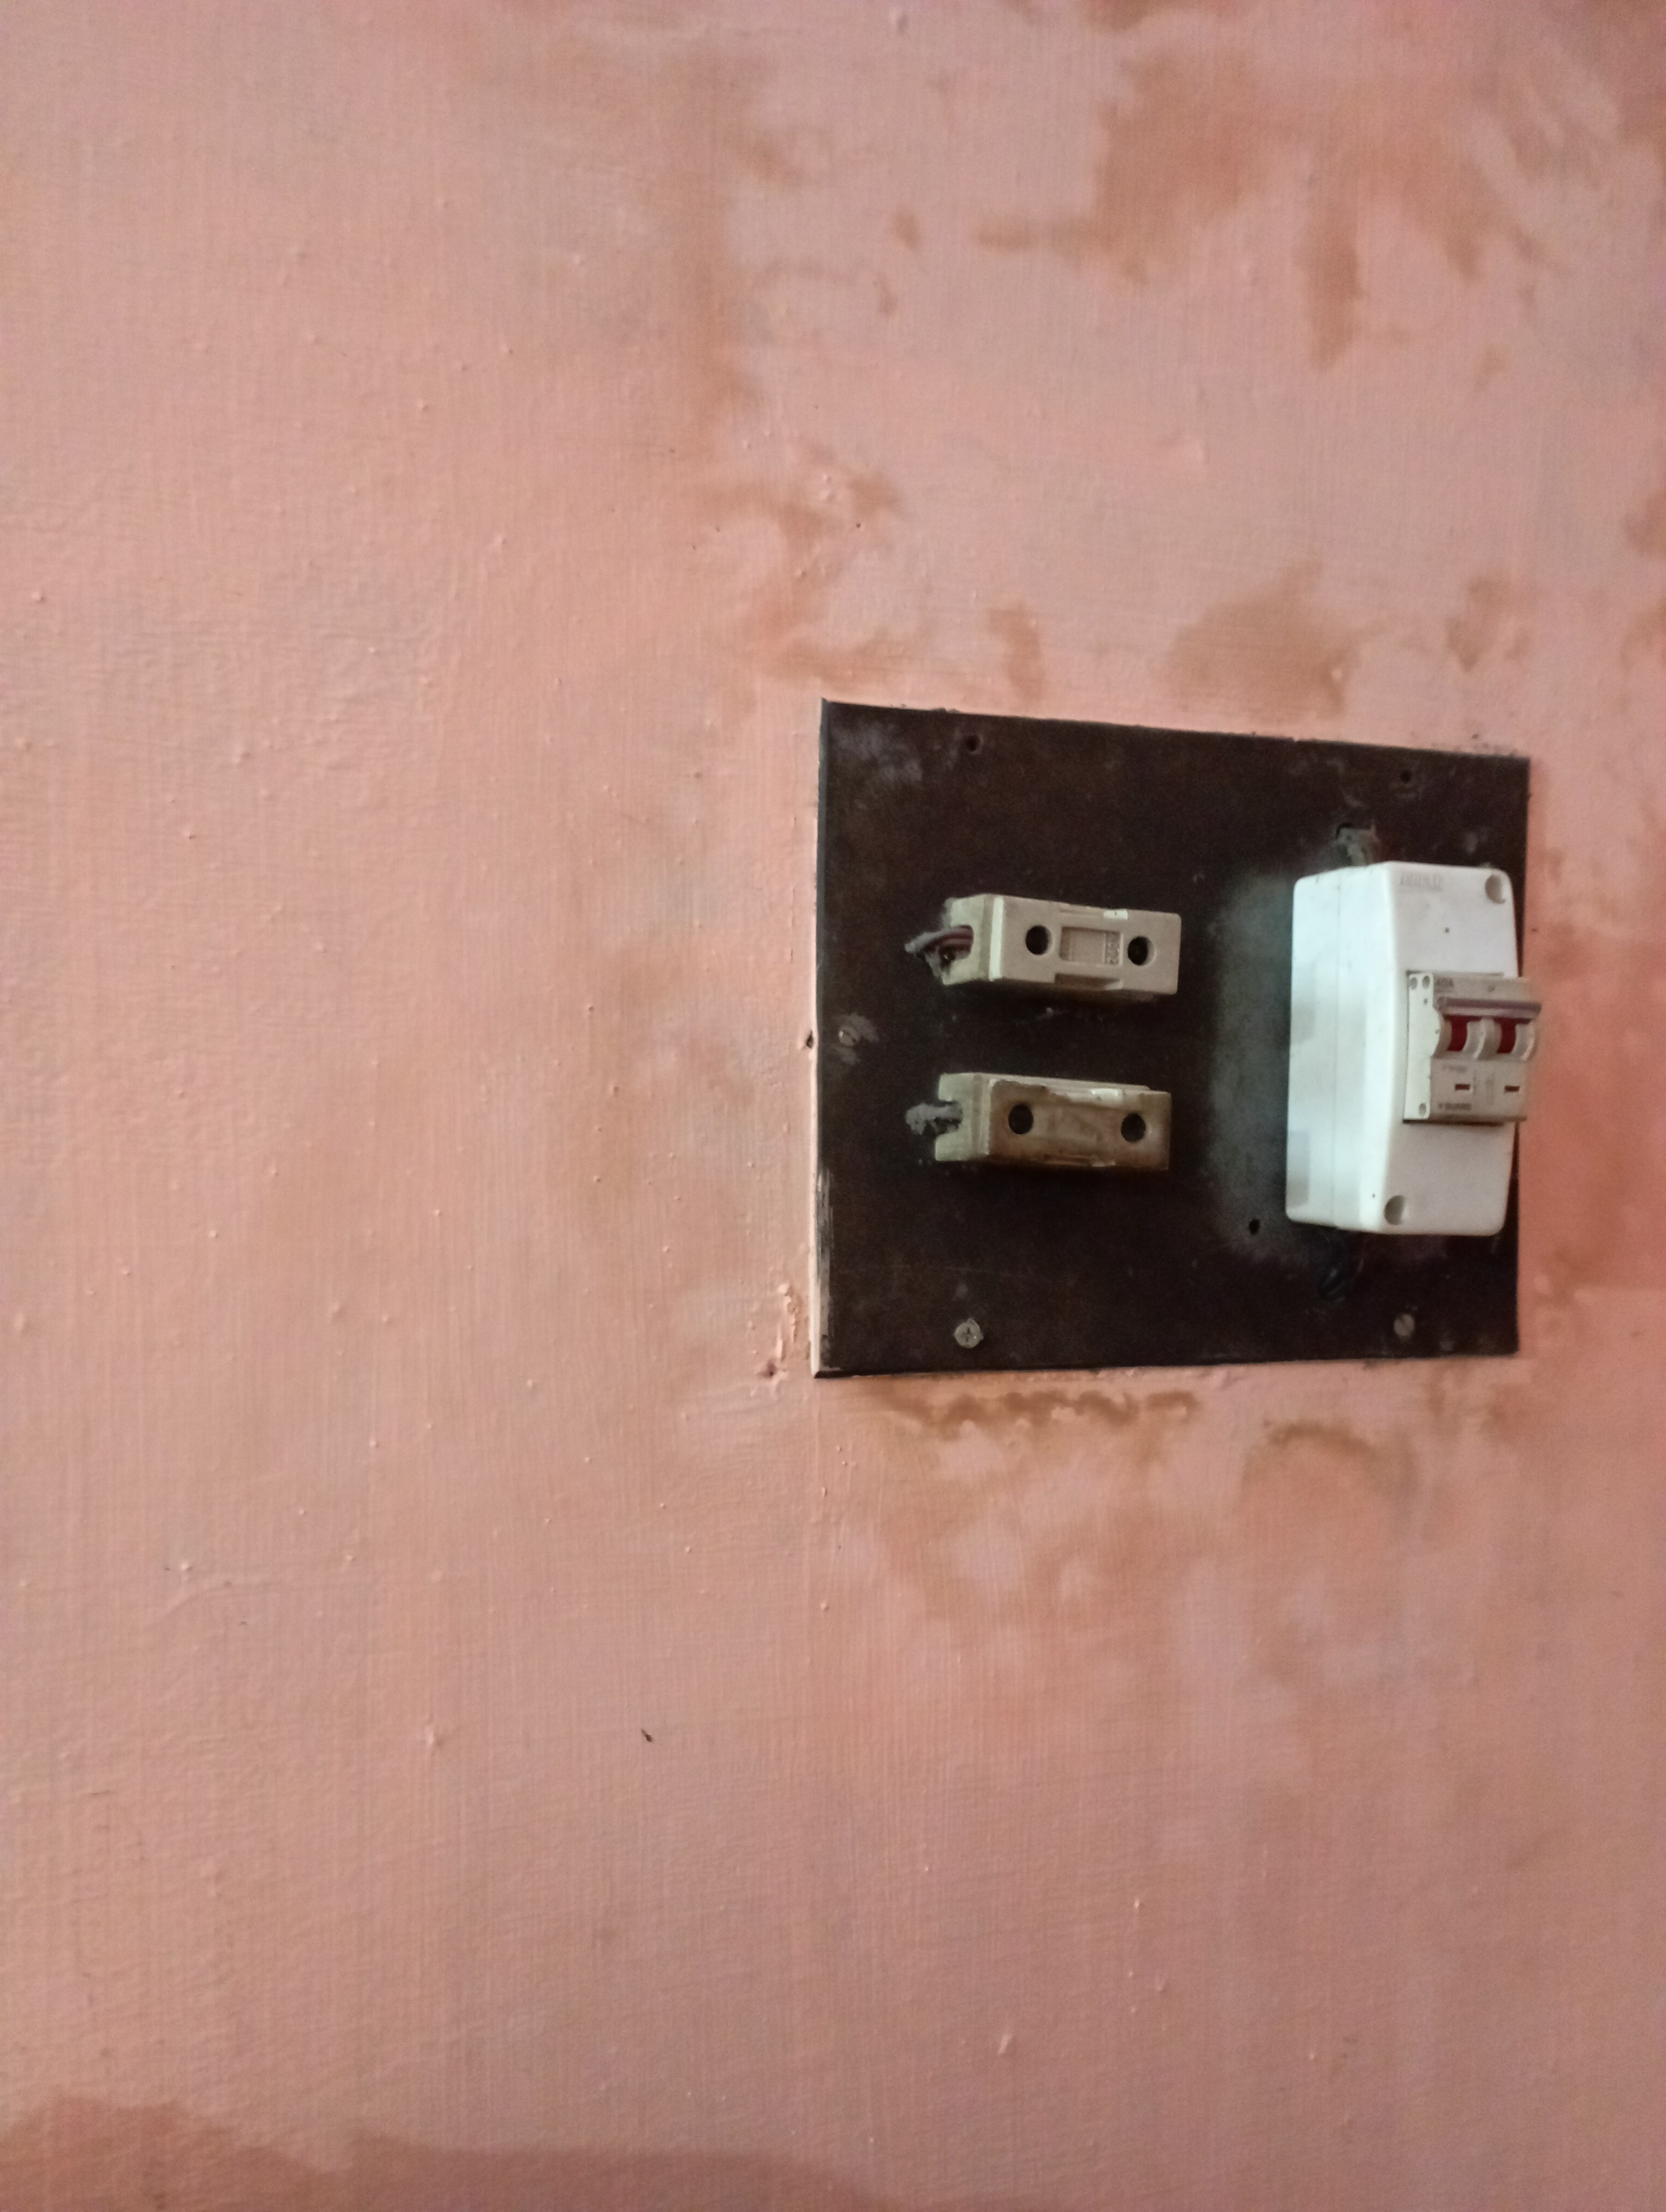ciruit_breaker: (1278, 855, 1538, 1269)
fuse: (900, 876, 1193, 1023), (903, 1061, 1181, 1189)
